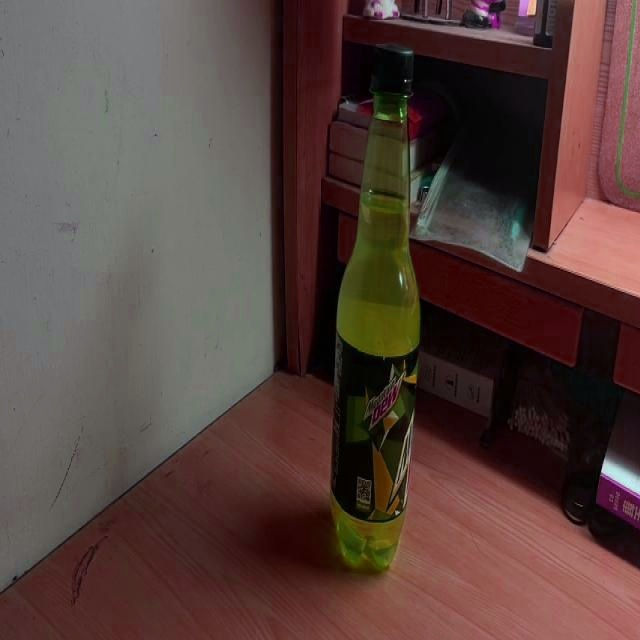Mountain-Dew: (331, 41, 422, 574)
